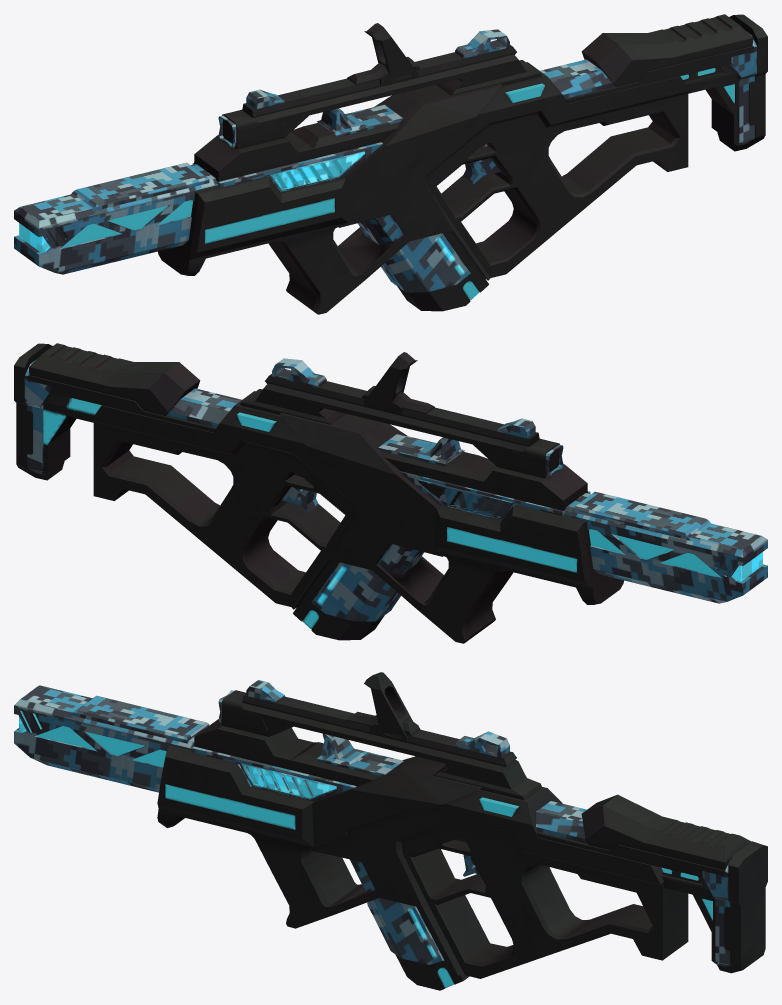
File: smg2.fbx
3 views of the same model, one above another, from view 1: azimuth 30°, elevation 25°; view 2: azimuth 150°, elevation 25°; view 3: azimuth 330°, elevation 25° (orthographic).
Visible parts, largest first — view 1: Smg2, Smg2_Magazine, Smg2_Trigger; view 2: Smg2, Smg2_Magazine, Smg2_Trigger; view 3: Smg2, Smg2_Magazine.
Boxes of the visible parts, <box> form: Smg2: <box>14,14,767,314</box>; Smg2_Magazine: <box>358,214,488,311</box>; Smg2_Trigger: <box>463,144,500,183</box>; Smg2: <box>14,343,767,643</box>; Smg2_Magazine: <box>293,543,423,640</box>; Smg2_Trigger: <box>281,473,318,512</box>; Smg2: <box>14,672,767,978</box>; Smg2_Magazine: <box>350,859,469,990</box>.
Bounding box in the file's own units: 479 × 182 × 45.19.
